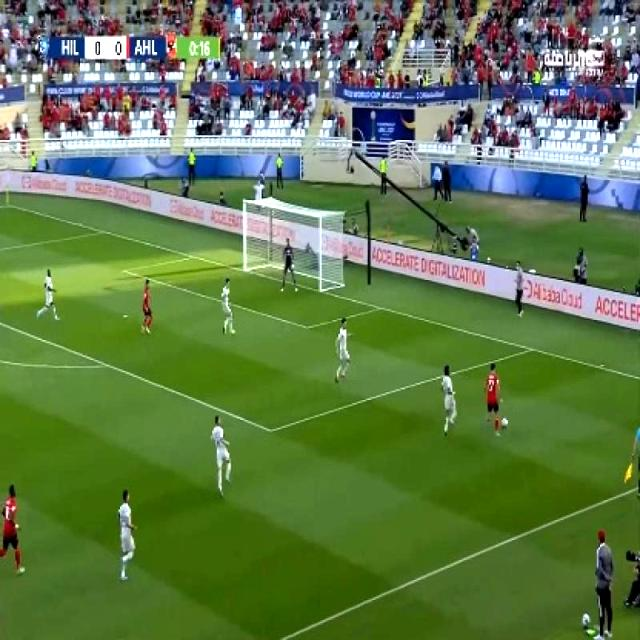bigarea_bottom_inner: (258, 415, 282, 445)
bigarea_bottom_outter: (518, 337, 540, 360)
bigarea_top_outter: (94, 224, 111, 238)
bottom_arc_area_intersection: (94, 352, 116, 376)
corner: (0, 197, 14, 210)
smallarea_bottom_inner: (297, 315, 315, 337)
smallarea_bottom_outter: (369, 295, 388, 317)
smallarea_top_inner: (116, 262, 134, 278)
smallarea_top_outter: (183, 248, 200, 264)
